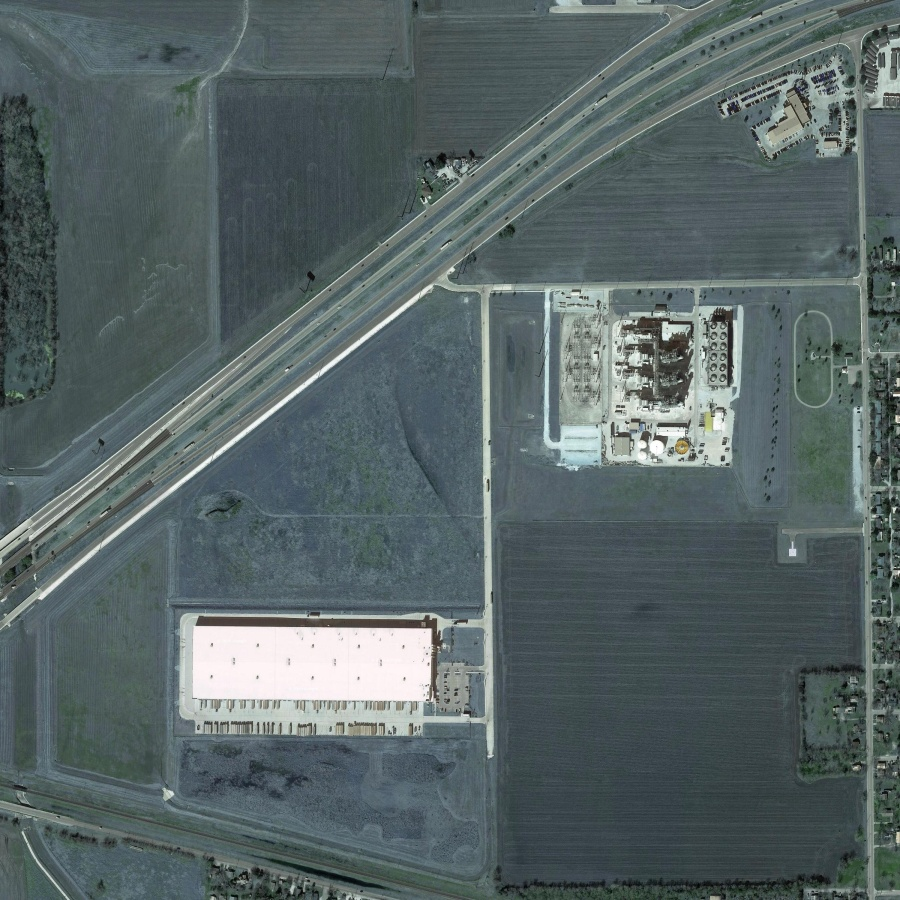PowerPlant: (546, 284, 740, 473)
